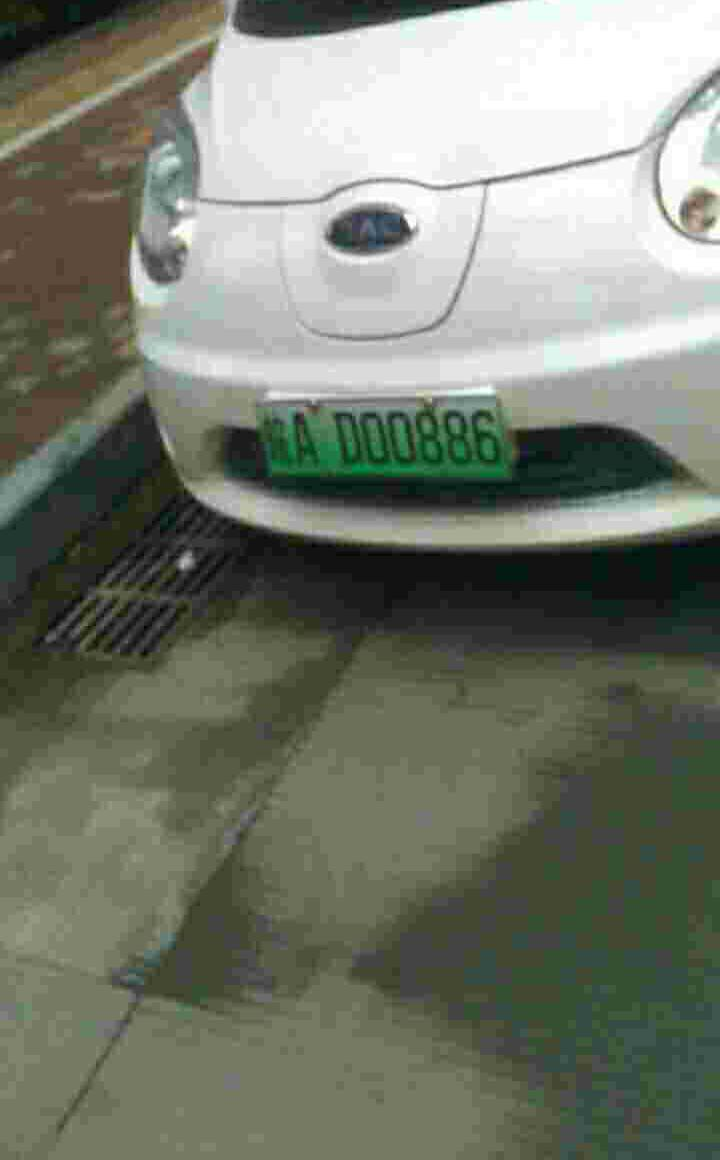car: (256, 396, 527, 485)
